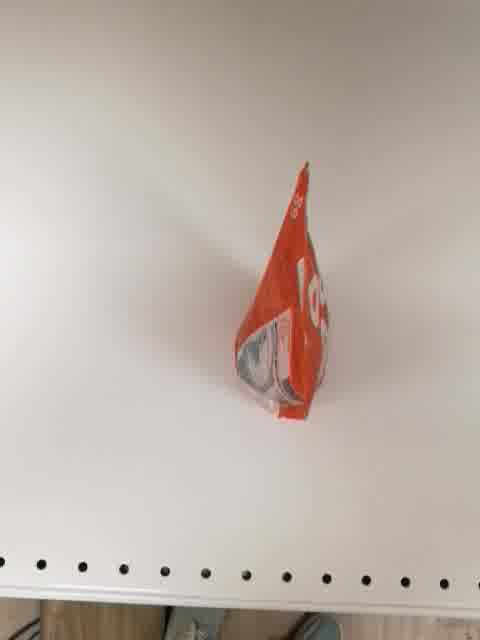whitechia: (230, 159, 333, 424)
